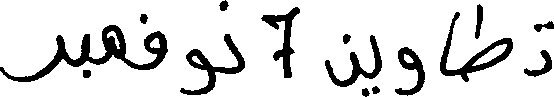7: (261, 5, 299, 79)
ا: (438, 10, 457, 77)
ب: (81, 32, 89, 78)
ت: (520, 19, 552, 77)
ر: (0, 32, 65, 82)
ط: (462, 1, 512, 82)
ف: (143, 12, 167, 70)
م: (101, 23, 126, 66)
ن: (324, 32, 361, 96), (219, 0, 245, 74)
و: (179, 46, 215, 95), (393, 44, 425, 94)
ي: (367, 32, 384, 95)
